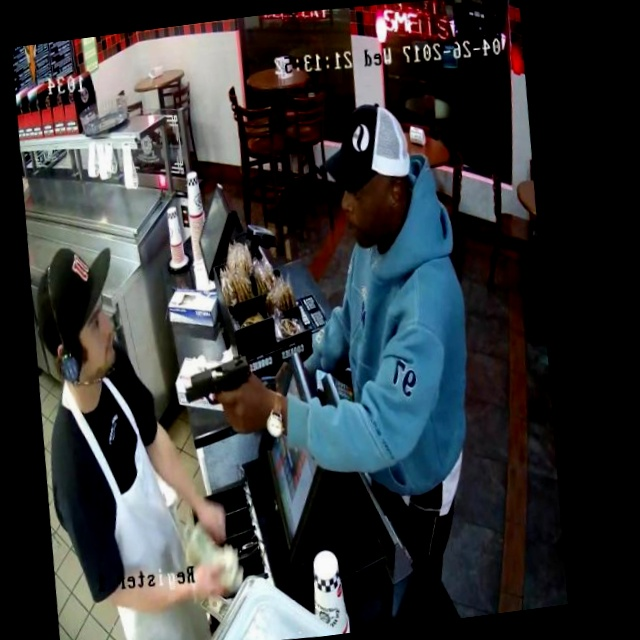gun: (168, 335, 272, 429)
